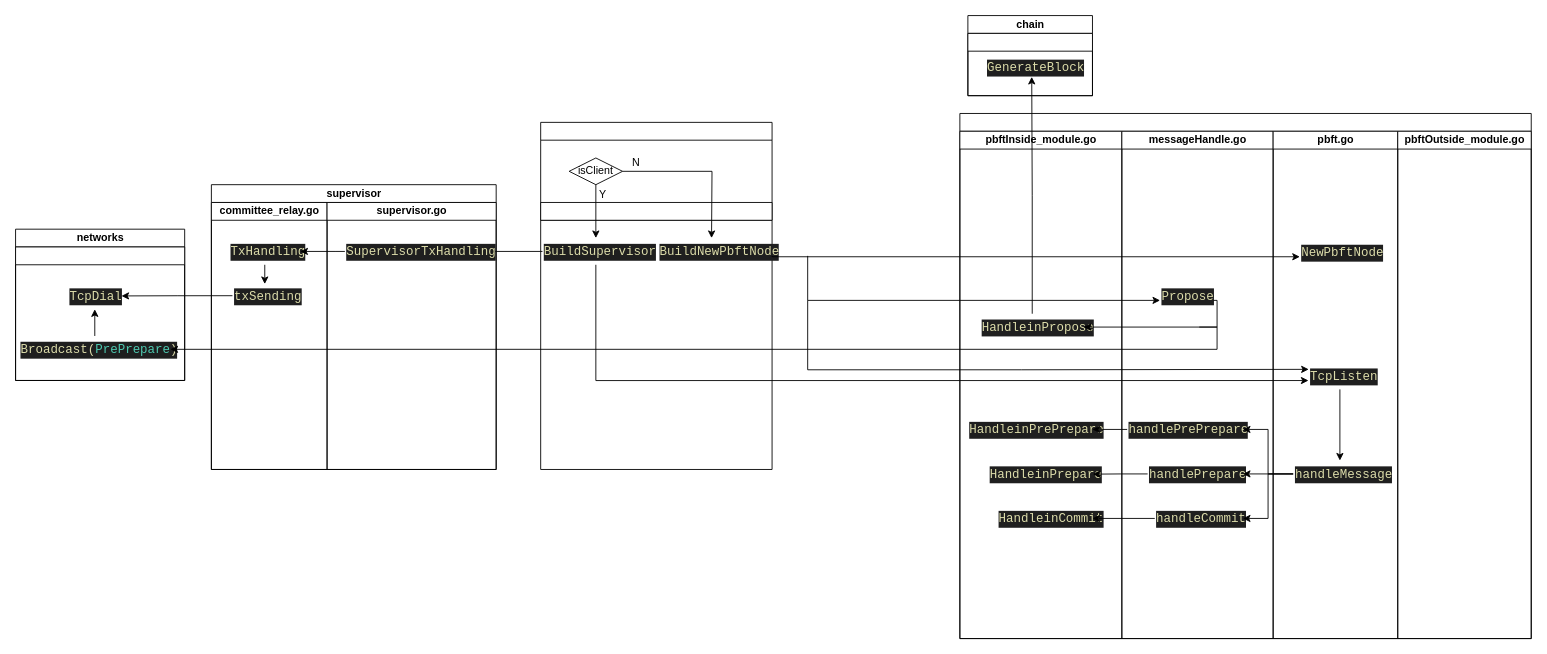
Image size: 1547x654. Some labels were removed from this diagram. Here are the shapes that lost their labels. From the top down, the box of each, then its label:
(967, 32, 1092, 96): blockchain.go
(540, 121, 772, 220): main
(15, 246, 185, 380): p2pNetwork.go
(540, 202, 772, 469): build.go
(959, 113, 1531, 639): pbft_basic
